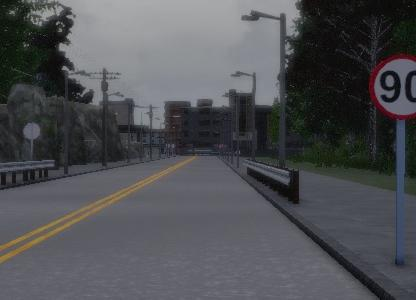Speed_90: (371, 51, 416, 123)
